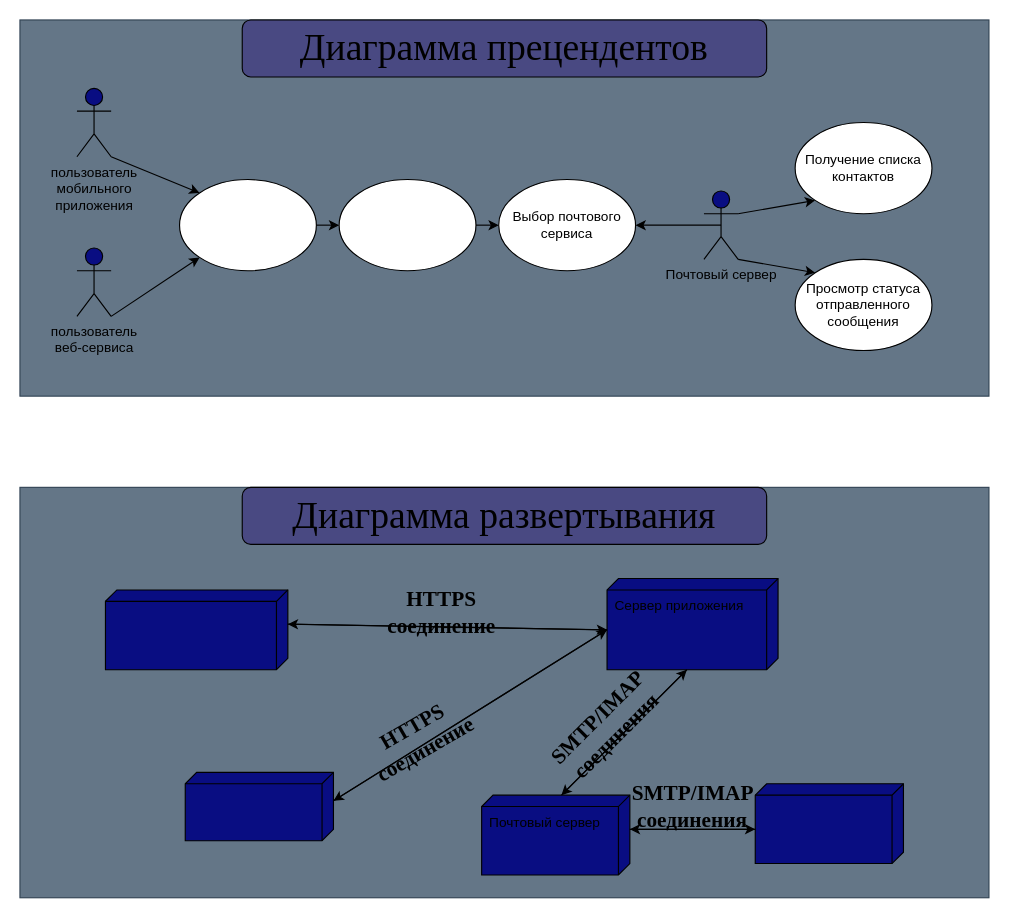
Image size: 1009x918. Some labels were removed from this diagram. Here are the shapes that lost their labels. From the top down, the centre of each, then its label:
At [247,224]: "Отправка сообщений".
At [407,224]: "Авторизация".
At [196,629]: "Мобильное устройство".
At [258,806]: "Веб-клиент".
At [828,823]: "API для почтовых сервисов".
